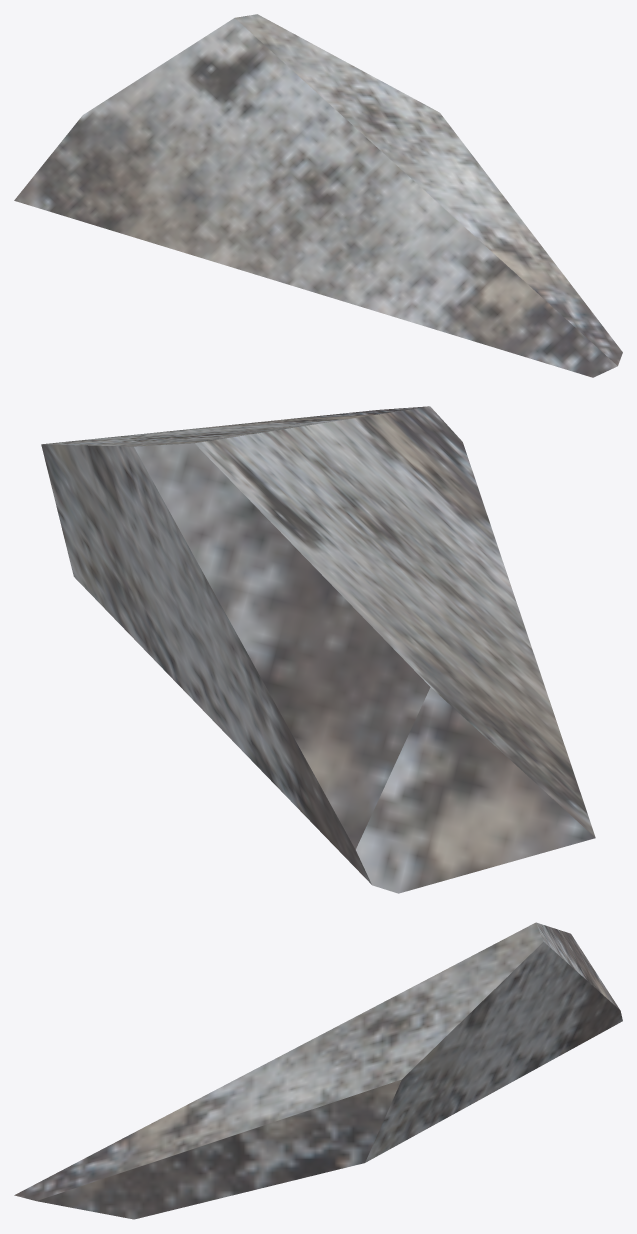
Rendered from Asteroid_Large_001_02_009_03_030.fbx.
3 renders of one model, top to bottom at view 1: azimuth 30°, elevation 25°; view 2: azimuth 150°, elevation 25°; view 3: azimuth 270°, elevation 25°, orthographic. The views are drawn at different scales.
Parts seen in each view (by area): view 1: Asteroid_Large_001_02_009_03_030; view 2: Asteroid_Large_001_02_009_03_030; view 3: Asteroid_Large_001_02_009_03_030.
Boxes of the visible parts, bbox=[...] form: Asteroid_Large_001_02_009_03_030: bbox=[14, 14, 622, 377]; Asteroid_Large_001_02_009_03_030: bbox=[41, 406, 595, 893]; Asteroid_Large_001_02_009_03_030: bbox=[14, 922, 622, 1219].
Size of the model in its own units: 4.42 by 2.57 by 6.23.
